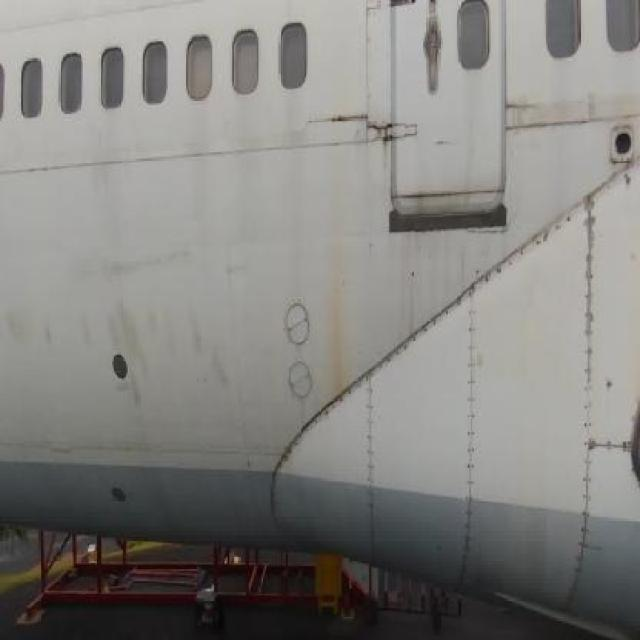Missing-Rivet: (576, 175, 595, 556), (460, 266, 485, 552), (485, 214, 573, 295), (388, 298, 460, 365), (362, 365, 384, 543), (308, 384, 363, 428), (600, 417, 632, 475)
Rust: (316, 195, 356, 414), (371, 104, 407, 208)
Scartch: (4, 288, 231, 419), (94, 224, 198, 290), (506, 92, 606, 154), (222, 248, 253, 310)
